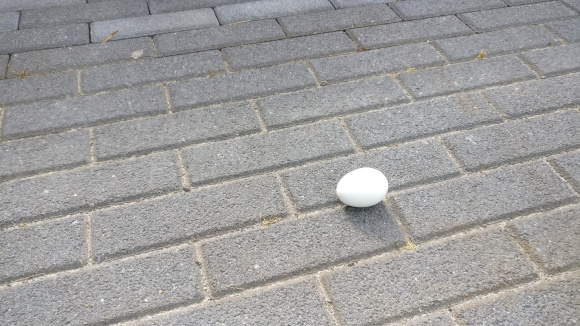egg: (335, 167, 389, 208)
